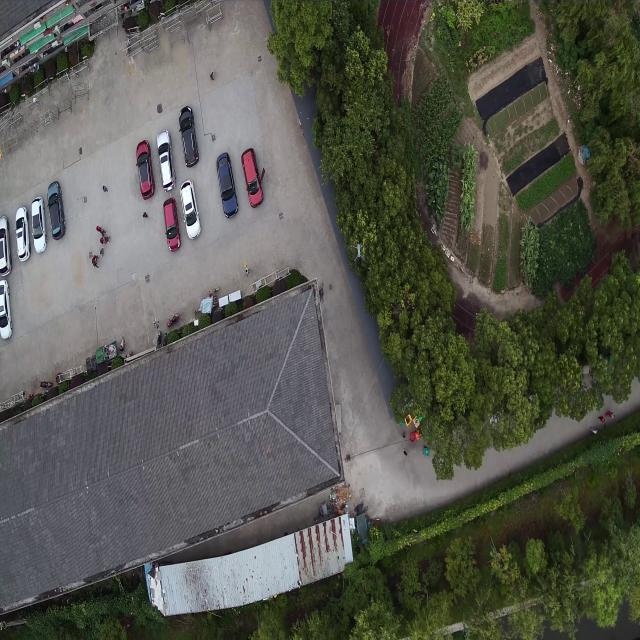UAV: (352, 243, 365, 262)
